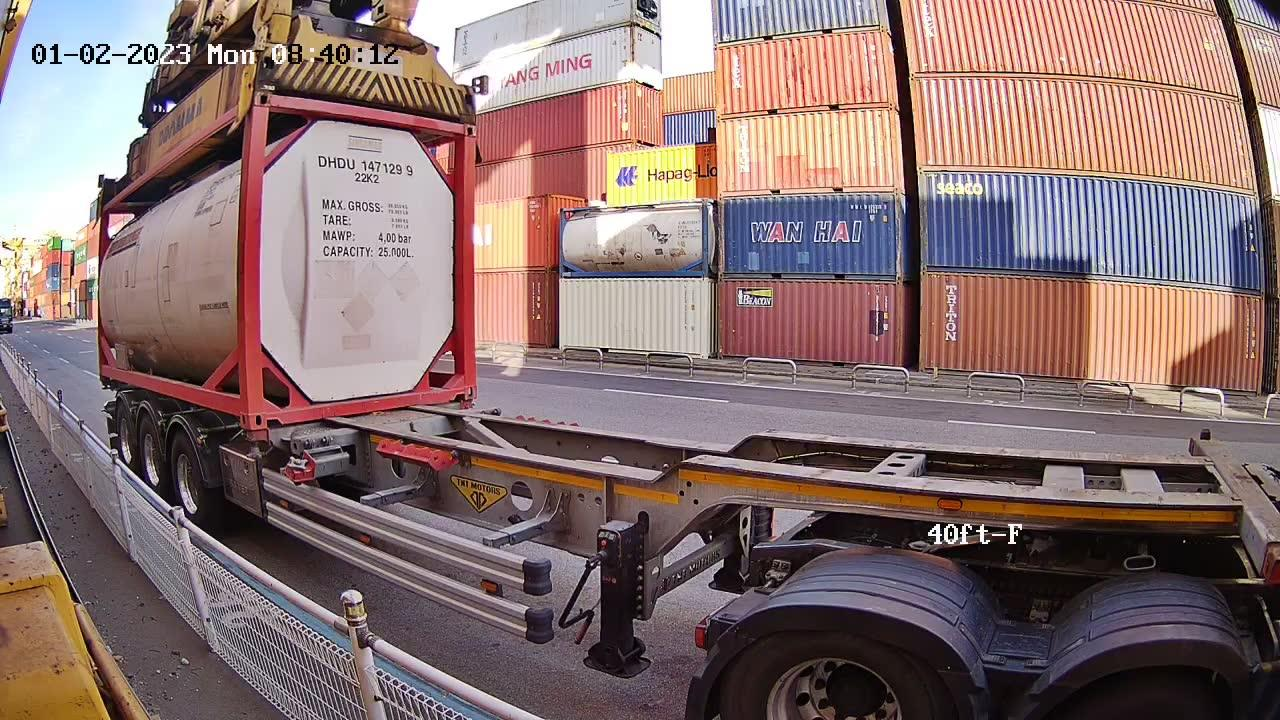Cone: (244, 431, 268, 459)
Hole_L: (252, 390, 288, 430)
Hole_R: (225, 388, 250, 429), (449, 366, 477, 400)
Tire: (170, 437, 207, 527), (136, 420, 164, 497), (114, 404, 135, 472)
